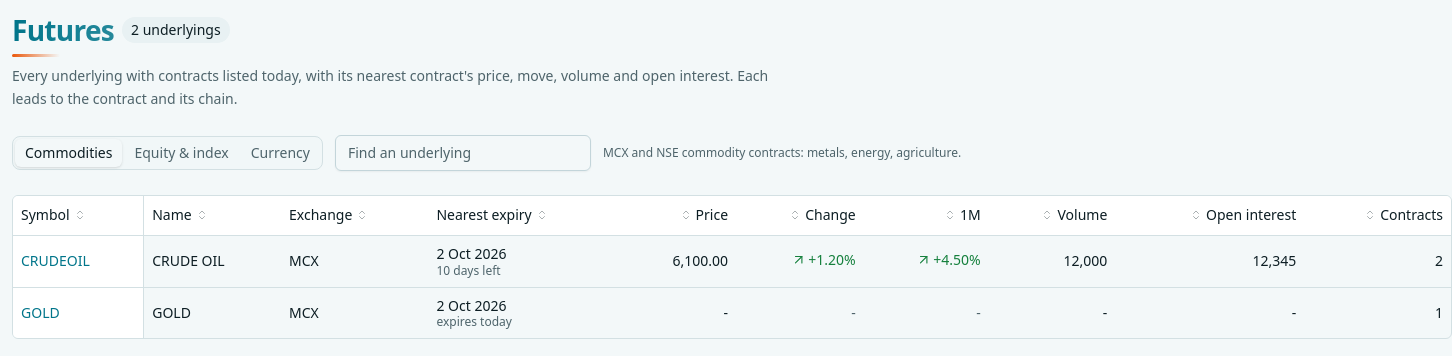
Test: Futures › counts the underlyings, and what the letters leave of them
The image size is (1452, 356).
Expected: the link "CRUDEOIL" is shown, [21, 251, 90, 270]
Expected: the text "2 underlyings" is shown, [122, 17, 230, 43]
Type "gol" into the search field labelled "Find an underlying" at [463, 152], box [335, 134, 591, 170]
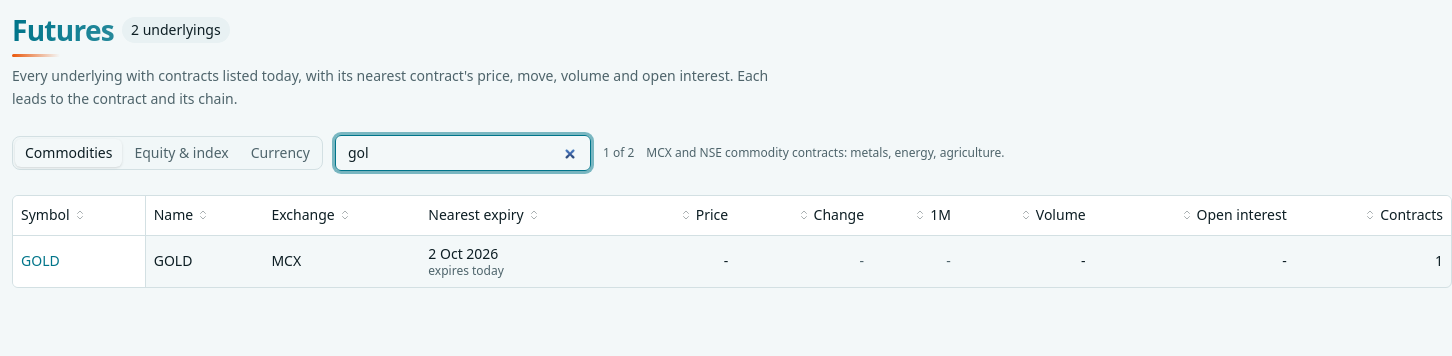
Result: the text "1 of 2" is shown at [603, 144, 634, 160]
Type "xx" into the search field named "Find an underlying" at [463, 152], box [335, 134, 591, 170]
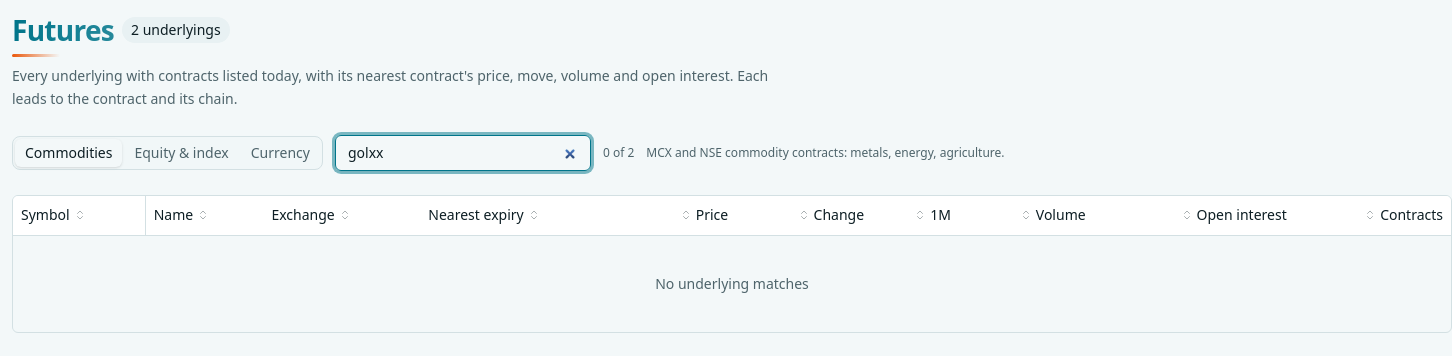
Result: the text "No underlying matches" is shown at [13, 236, 1451, 332]
